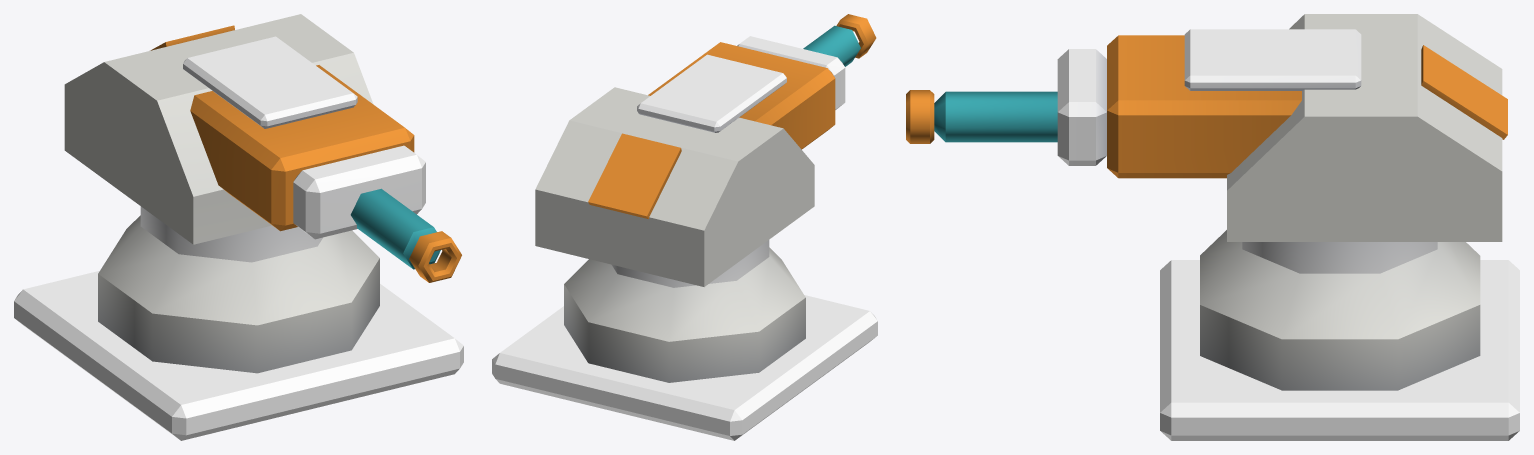
The model's file is R4W_Basic_LOD1.fbx.
3 views of the same model, side by side, from view 1: azimuth 30°, elevation 25°; view 2: azimuth 150°, elevation 25°; view 3: azimuth 270°, elevation 25° (orthographic). The views are drawn at different scales.
Parts seen in each view (by area): view 1: R4W_Basic_LOD1; view 2: R4W_Basic_LOD1; view 3: R4W_Basic_LOD1.
Part boxes in pixels (<box>): R4W_Basic_LOD1: <box>14,14,463,440</box>; R4W_Basic_LOD1: <box>492,14,877,440</box>; R4W_Basic_LOD1: <box>906,14,1519,440</box>.
Size of the model in its own units: 0.51 by 0.496 by 0.87.
